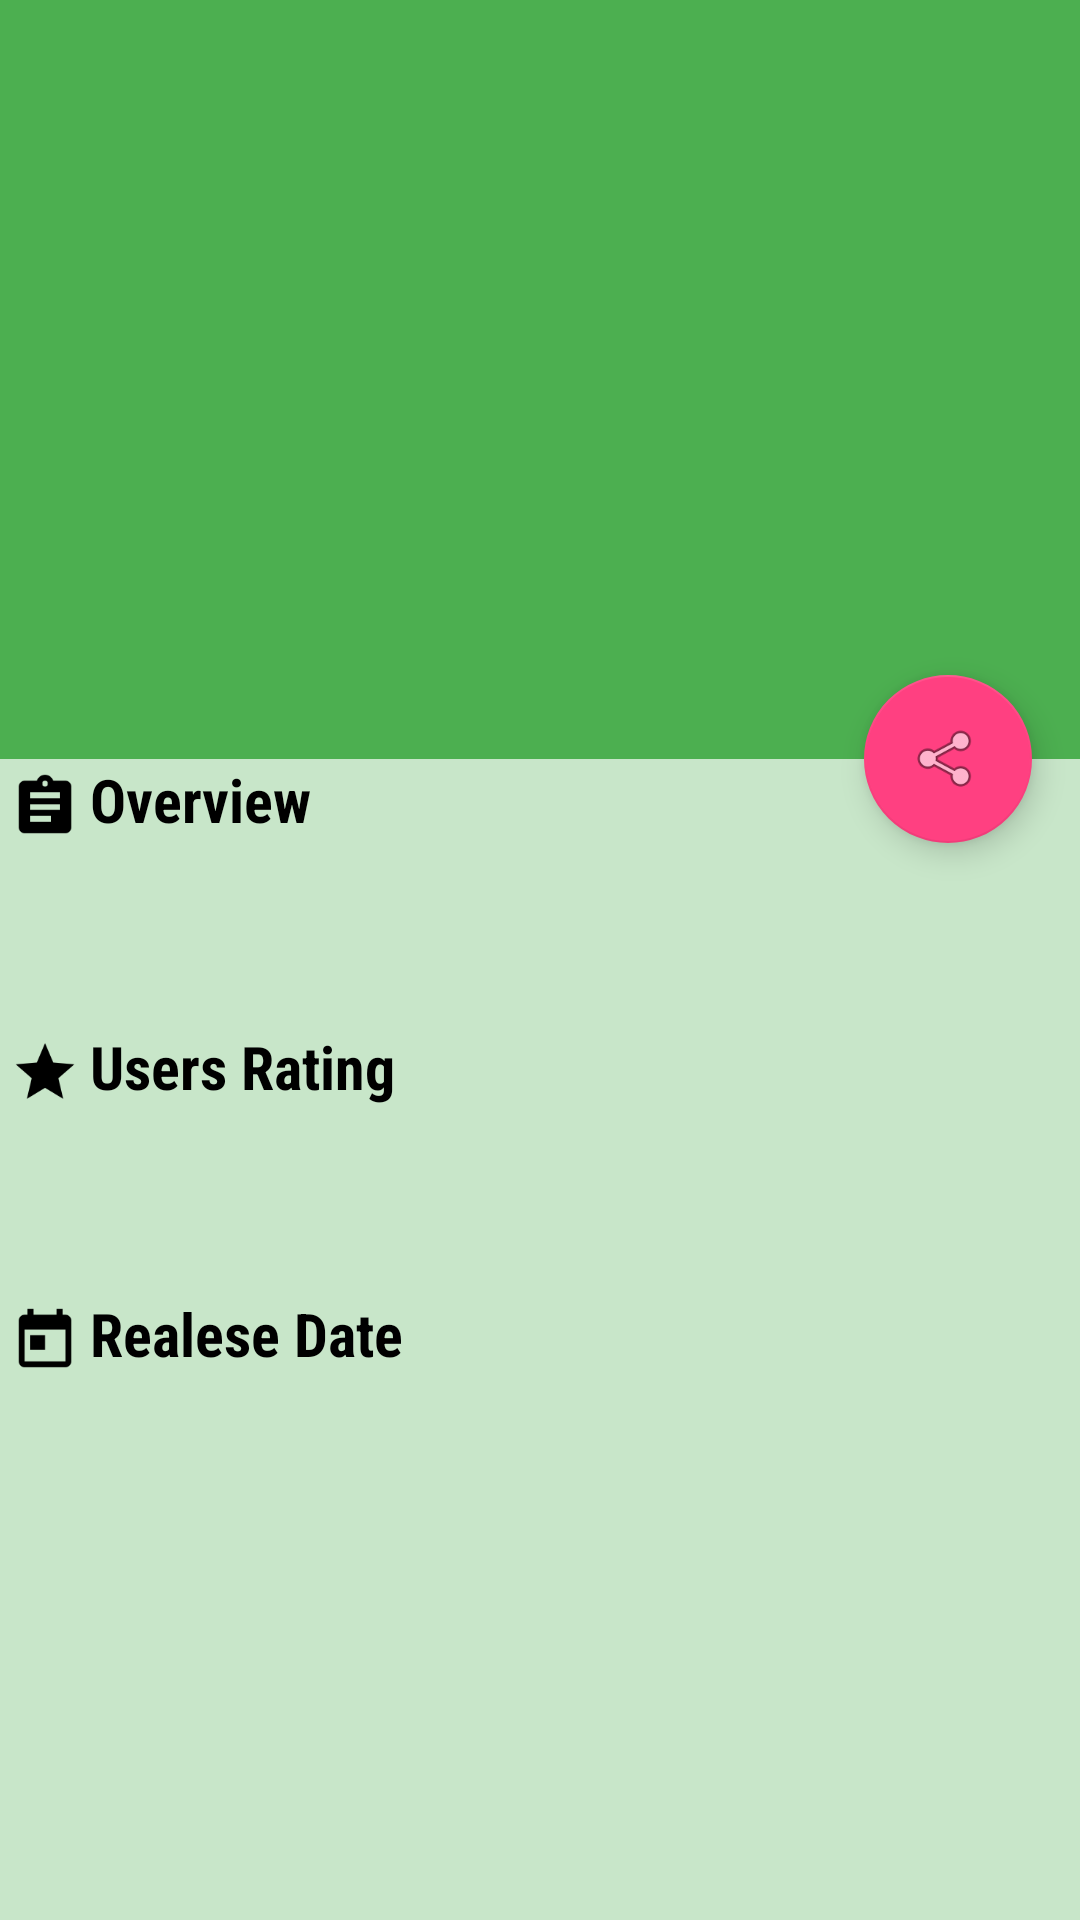

Named icons in this screenshot (1080 × 1920) and their centers, point (x, y):
share: point (948, 759)
